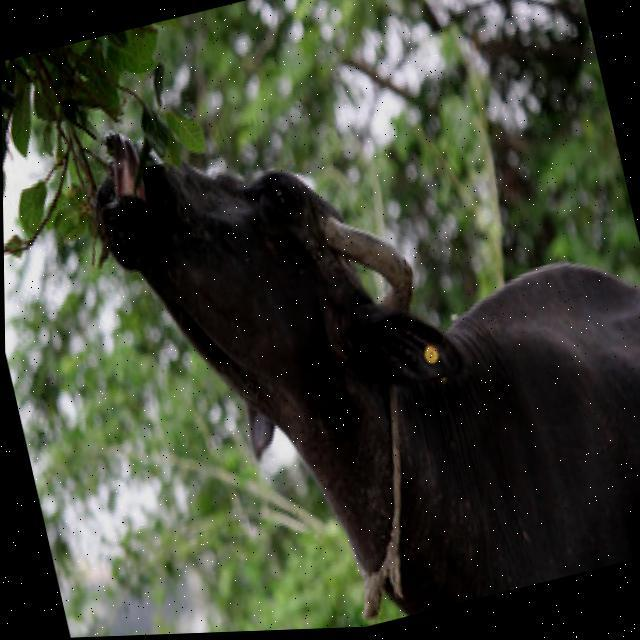Buffalo: (67, 4, 640, 638)
